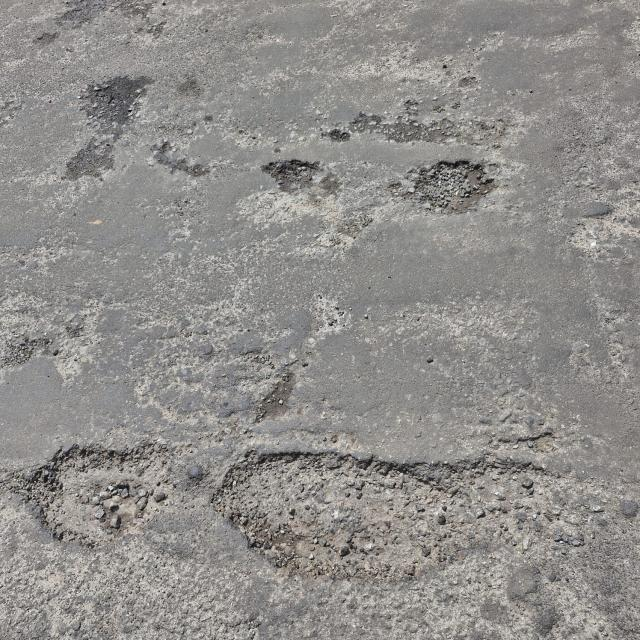pothole: (214, 439, 560, 579), (3, 424, 176, 557), (65, 75, 140, 178), (390, 153, 504, 218), (347, 102, 521, 142), (43, 0, 192, 41), (565, 176, 640, 253), (260, 153, 346, 208), (243, 366, 308, 422), (6, 331, 72, 376), (146, 139, 210, 178)
